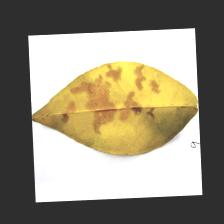black spot: (68, 81, 167, 141)
